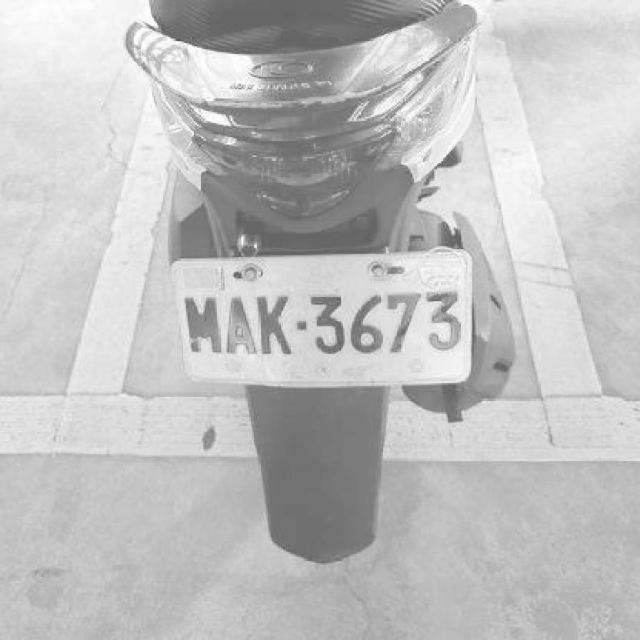-: (296, 317, 310, 329)
3: (309, 289, 348, 354), (422, 292, 458, 356)
6: (345, 291, 383, 352)
7: (386, 292, 423, 356)
K: (256, 292, 296, 358)
M: (183, 291, 225, 357)
N: (223, 294, 257, 358)
